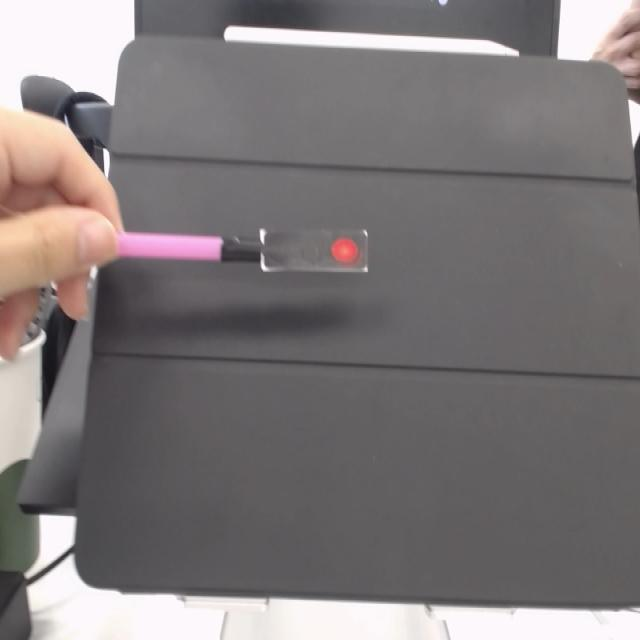traffic light: (258, 225, 371, 277)
